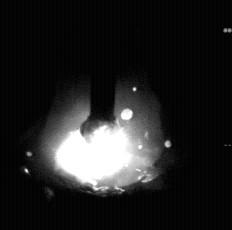arame: (91, 0, 117, 130)
poca: (41, 0, 166, 230)
